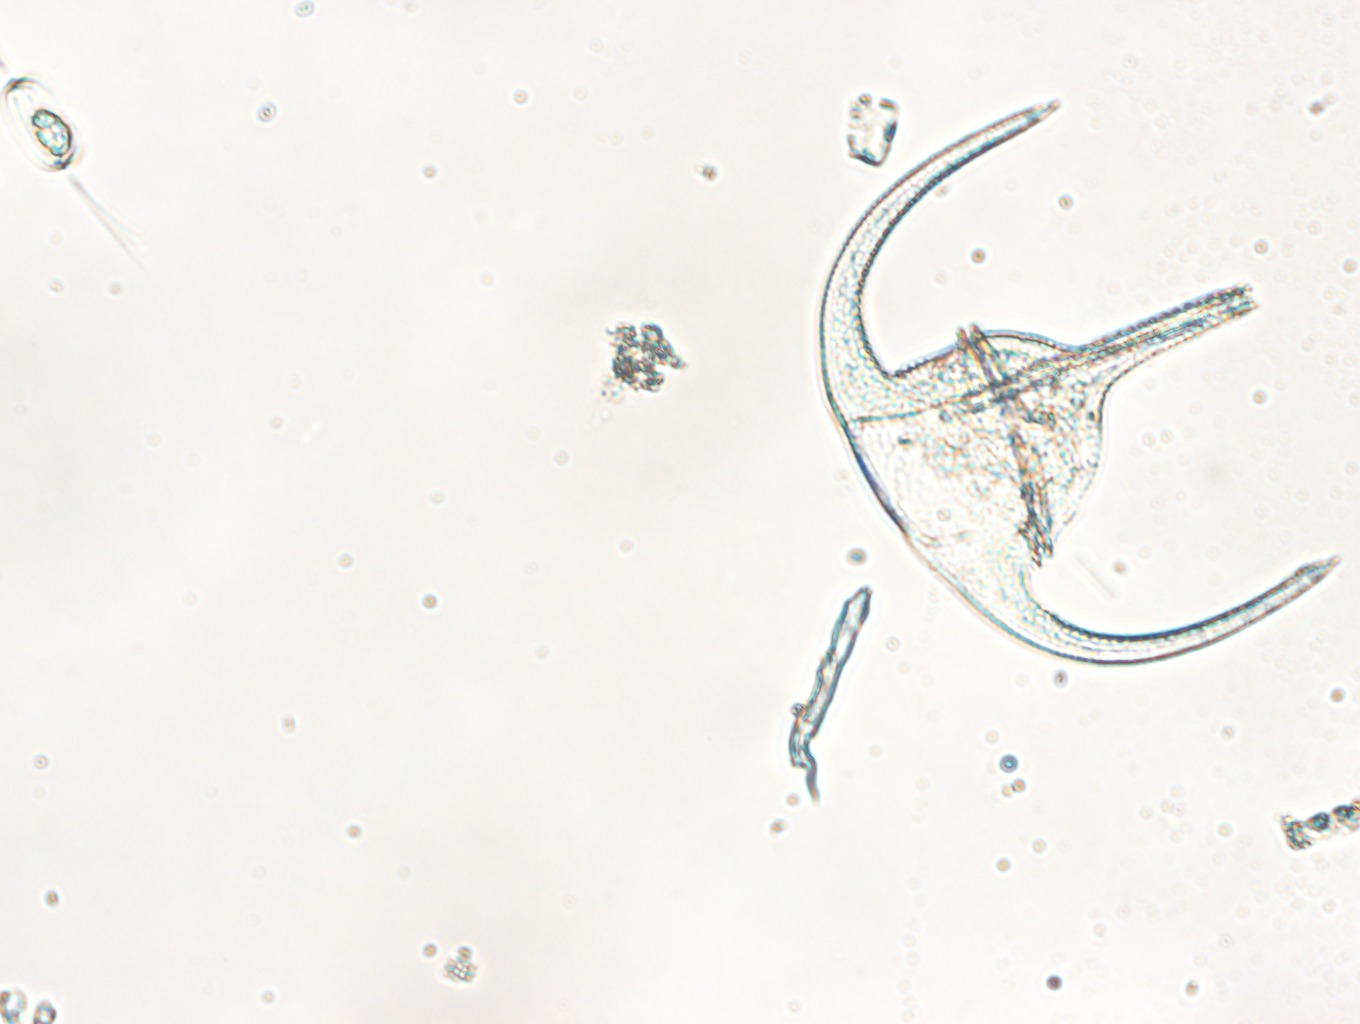ceratium tripos: (817, 86, 1350, 674)
